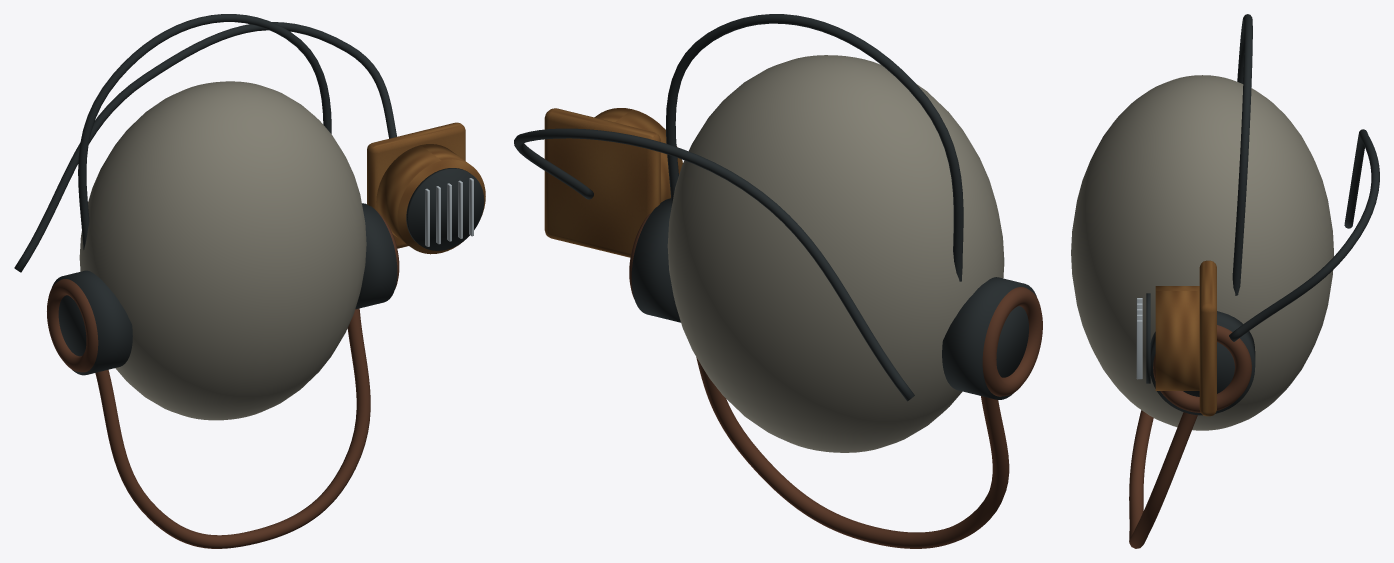
File: diver-telephone.glb
3 views of the same model, side by side, from view 1: azimuth 30°, elevation 25°; view 2: azimuth 150°, elevation 25°; view 3: azimuth 270°, elevation 25° (orthographic). The views are drawn at different scales.
Parts seen in each view (by area): view 1: Canvas cap form_Interpretive, Chin strap, Diver wiring_LayoutEstimated, Diver receiver, Headset wire, Diver transmitter cup, DiverDiaphragm, Wall transmitter mounting plate, Diver receiver.001, Diver earpiece; view 2: Canvas cap form_Interpretive, Wall transmitter mounting plate, Chin strap, Diver wiring_LayoutEstimated, Diver receiver, Headset wire, Diver receiver.001, Diver earpiece, Diver transmitter cup; view 3: Canvas cap form_Interpretive, Diver transmitter cup, Chin strap, Diver wiring_LayoutEstimated, Headset wire, Wall transmitter mounting plate, Diver earpiece.001, Diver receiver.001, DiverDiaphragm, Microphone protection grille.004.
Boxes of the visible parts, x1,y1,x2,y2 form: Canvas cap form_Interpretive: (79, 81, 366, 420); Chin strap: (95, 308, 370, 548); Diver wiring_LayoutEstimated: (14, 22, 396, 272); Diver receiver: (52, 270, 132, 375); Headset wire: (78, 14, 331, 249); Diver transmitter cup: (376, 144, 485, 254); DiverDiaphragm: (406, 168, 484, 250); Wall transmitter mounting plate: (367, 122, 465, 248); Diver receiver.001: (355, 203, 397, 309); Diver earpiece: (47, 279, 98, 372); Canvas cap form_Interpretive: (667, 55, 1004, 452); Wall transmitter mounting plate: (544, 108, 660, 257); Chin strap: (696, 357, 1009, 548); Diver wiring_LayoutEstimated: (514, 128, 914, 401); Diver receiver: (942, 277, 1036, 399); Headset wire: (666, 14, 963, 281); Diver receiver.001: (631, 198, 680, 322); Diver earpiece: (982, 287, 1042, 396); Diver transmitter cup: (594, 108, 682, 202); Canvas cap form_Interpretive: (1071, 75, 1333, 430); Diver transmitter cup: (1155, 286, 1199, 390); Chin strap: (1129, 410, 1197, 548); Diver wiring_LayoutEstimated: (1229, 129, 1379, 341); Headset wire: (1232, 14, 1252, 295); Wall transmitter mounting plate: (1199, 260, 1216, 416); Diver earpiece.001: (1153, 325, 1251, 412); Diver receiver.001: (1150, 311, 1255, 415); DiverDiaphragm: (1146, 293, 1150, 383); Microphone protection grille.004: (1136, 320, 1142, 379).
Bounding box in the file's own units: 0.3257 × 0.3793 × 0.2114.
Materials: 5 (1 with a texture image).
